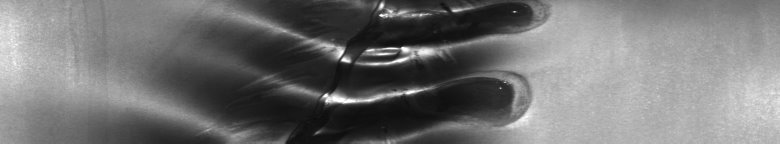ke: (200, 4, 536, 136)
